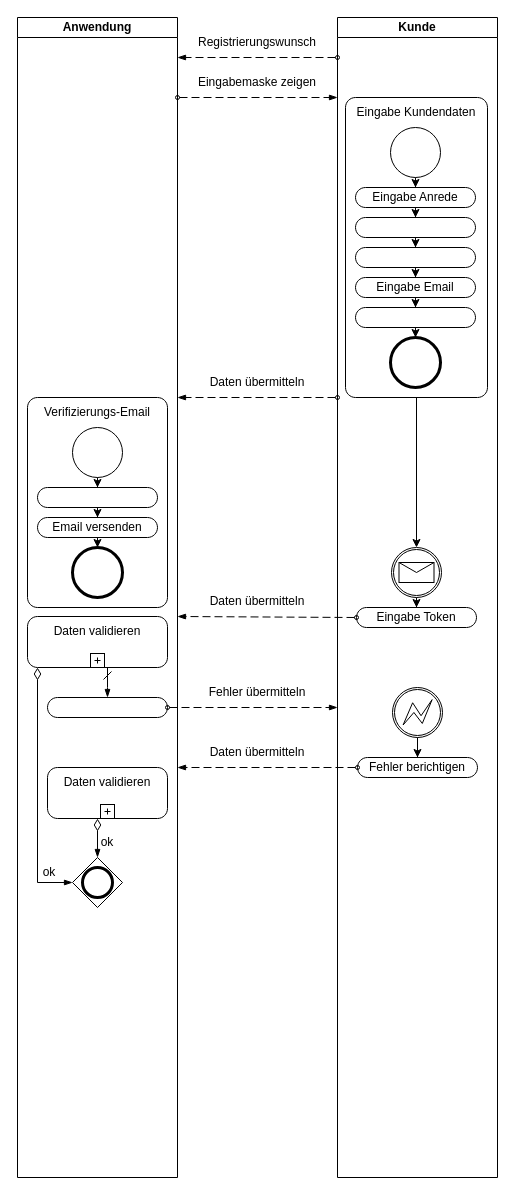
The diagram is 515 pixels wide and 1195 high, and some of its shapes have lost their labels. The centre of each missing label's shape, as x and y in pixels:
"Eingabe Adresse" goes at point 415,317.
"Eingabe Name" goes at point 415,227.
"Eingabe Telefon" goes at point 415,257.
"Fehler werfen" goes at point 107,707.
"Token generieren" goes at point 97,497.
